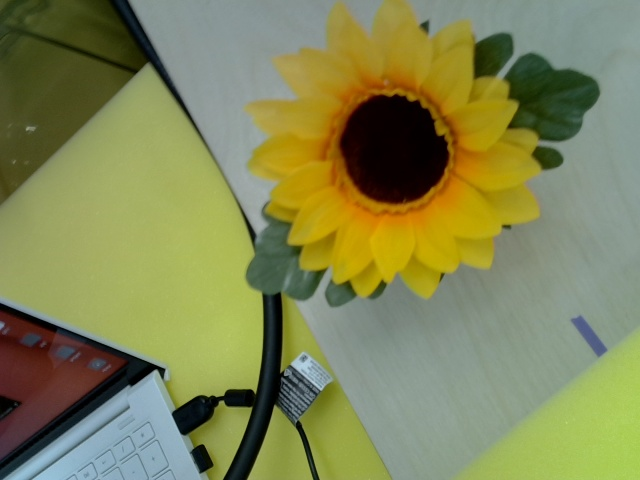해바라기: (242, 5, 541, 297)
